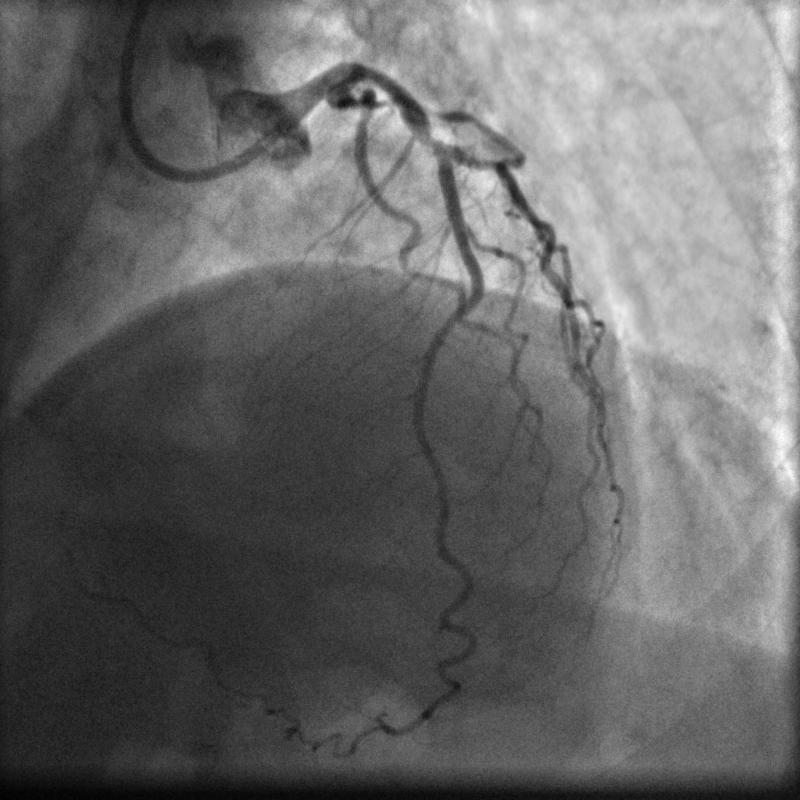Stenosis: (406, 122, 449, 155)
